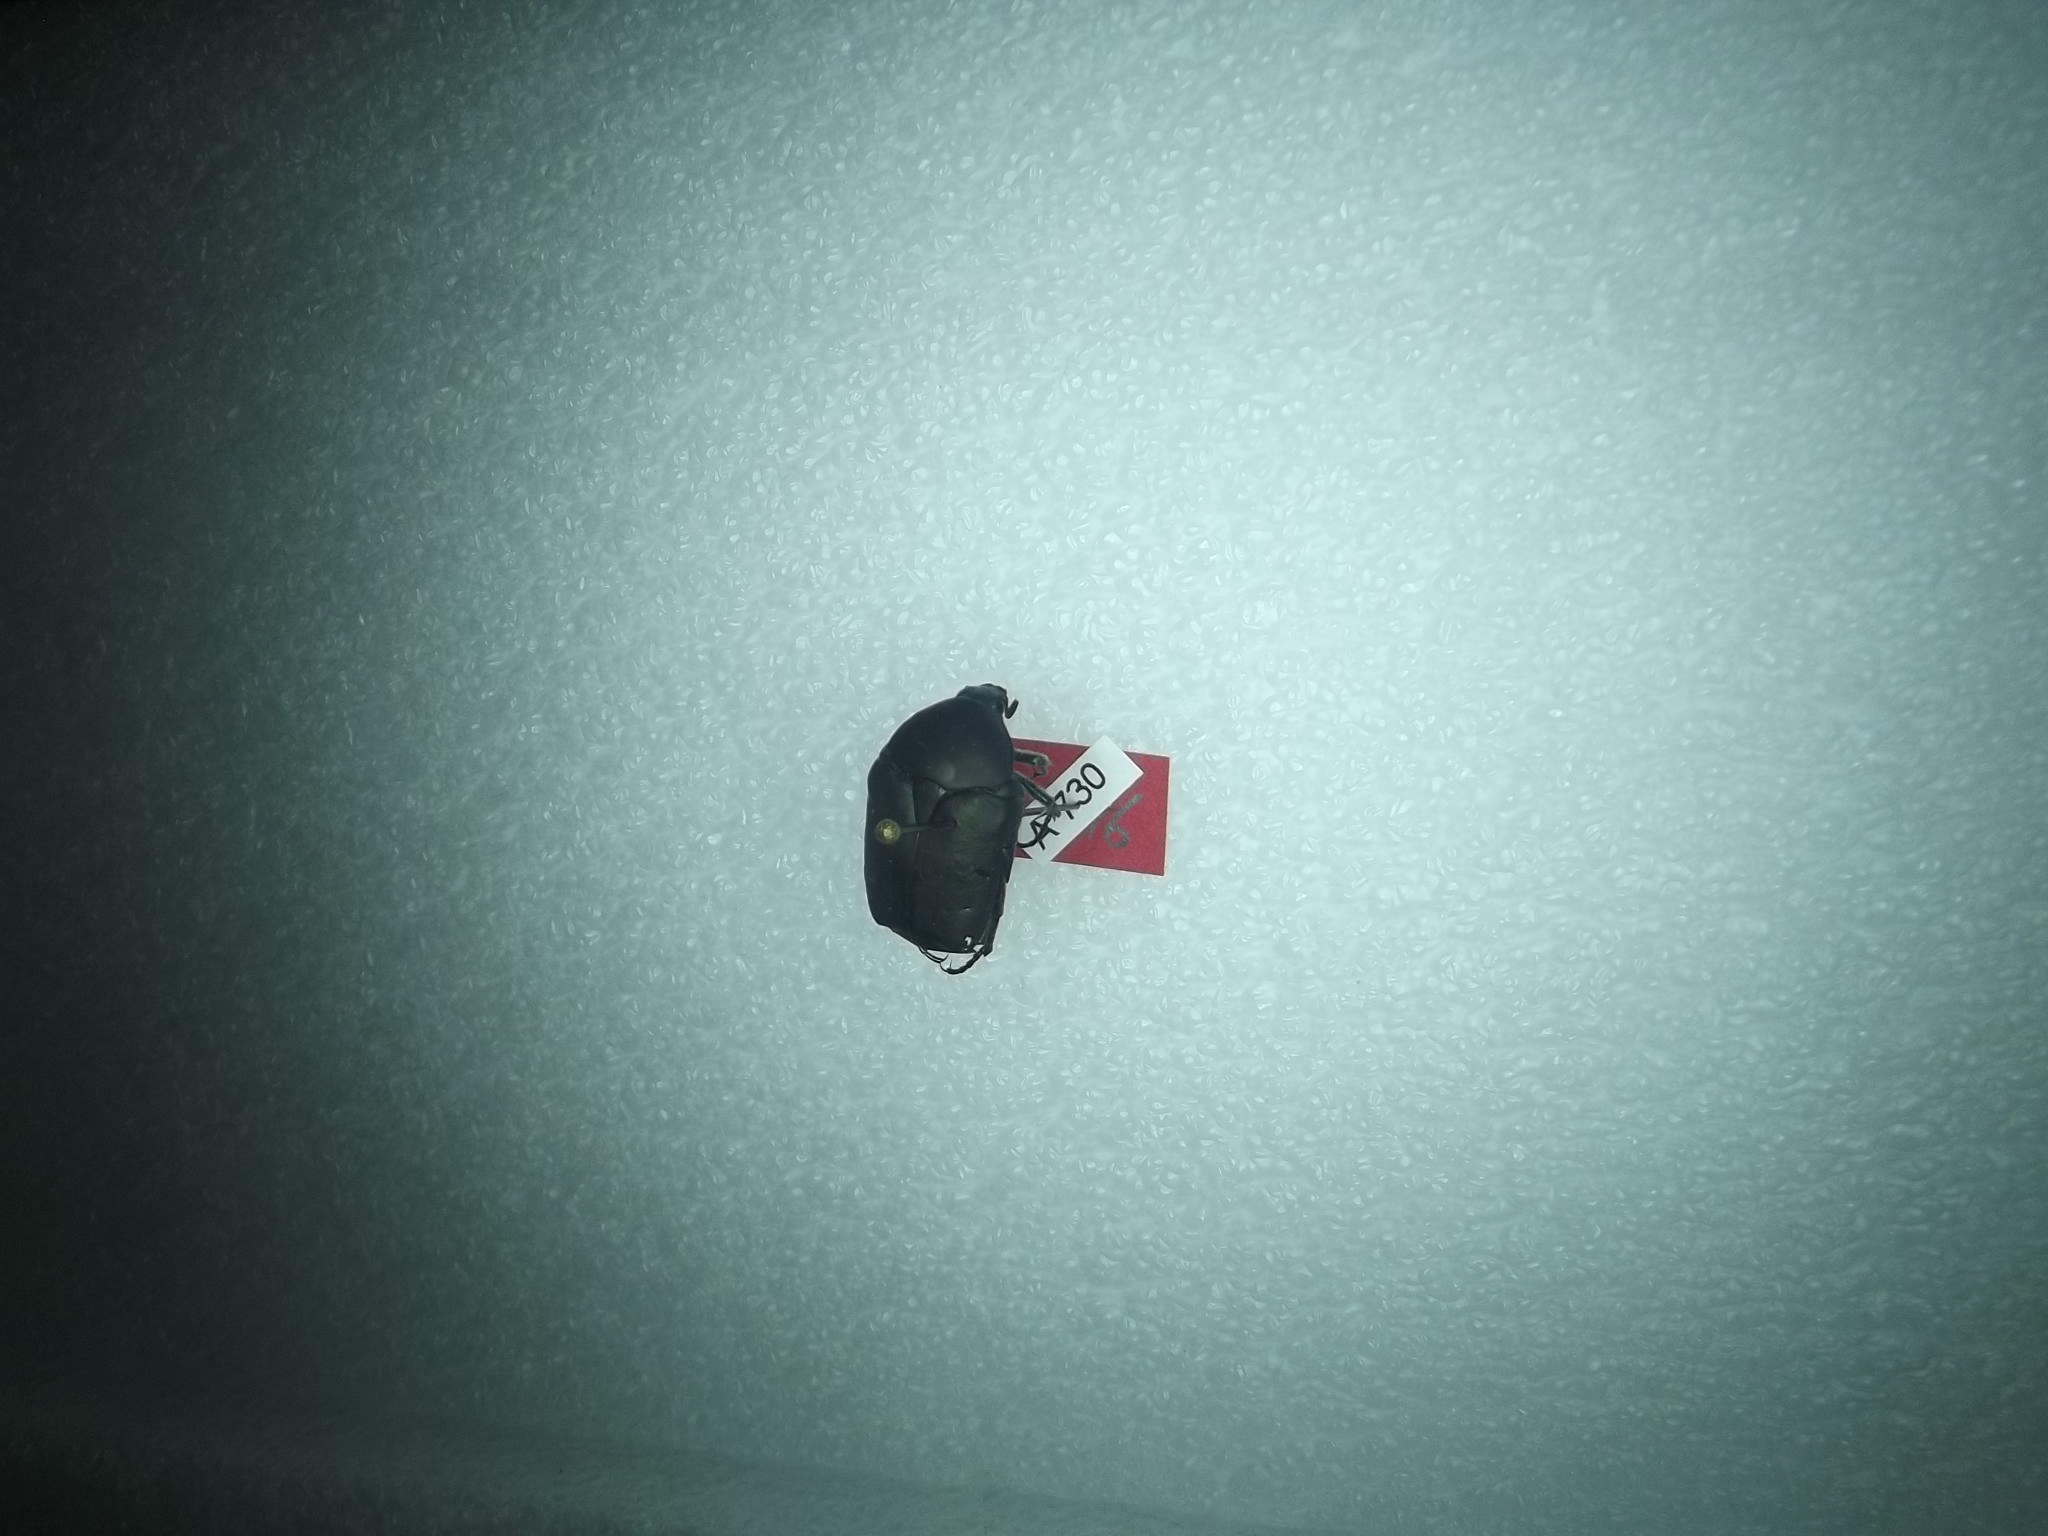Protaetia_ungarica_americana: (855, 663, 1064, 978)
